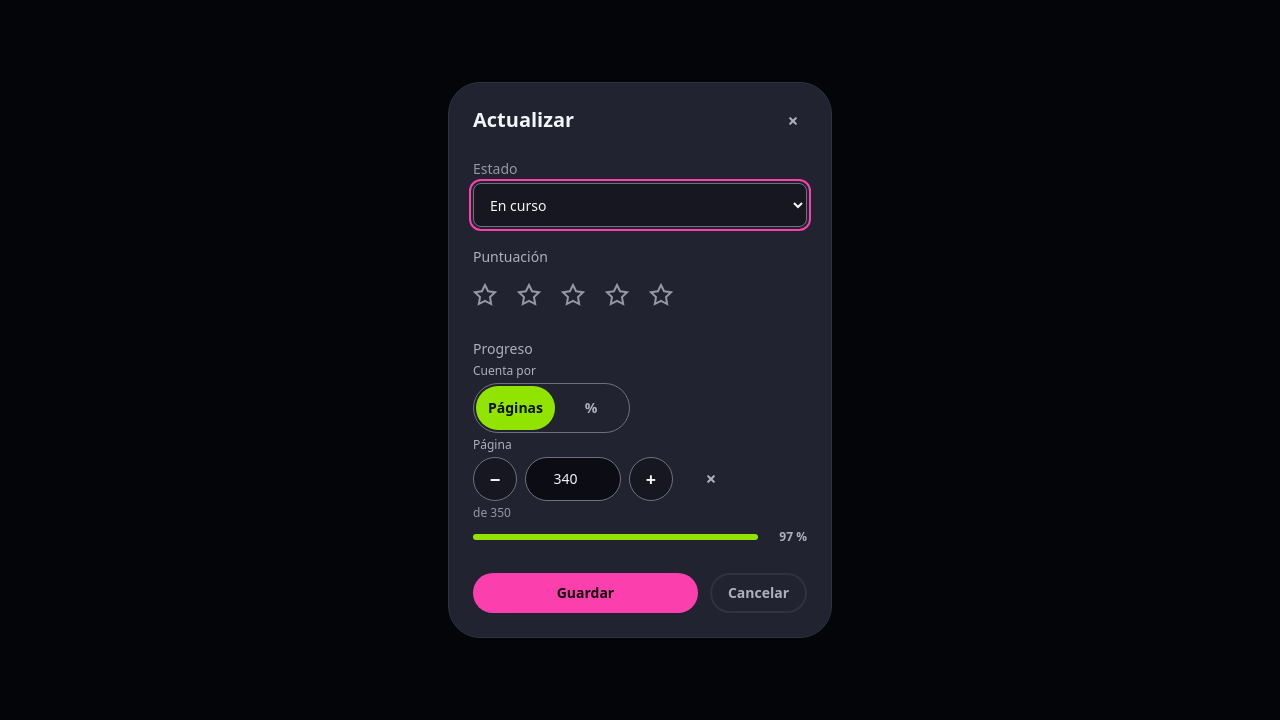
Test: LibraryStatusModal + progreso › al llegar a la última página propone «Completado» y lo aplica al estado
The image size is (1280, 720).
Expected: the text "Has llegado al final del libro." is not shown
Click the button named "Más páginas": click(651, 479) top-left (629, 457), bottom-right (673, 501)
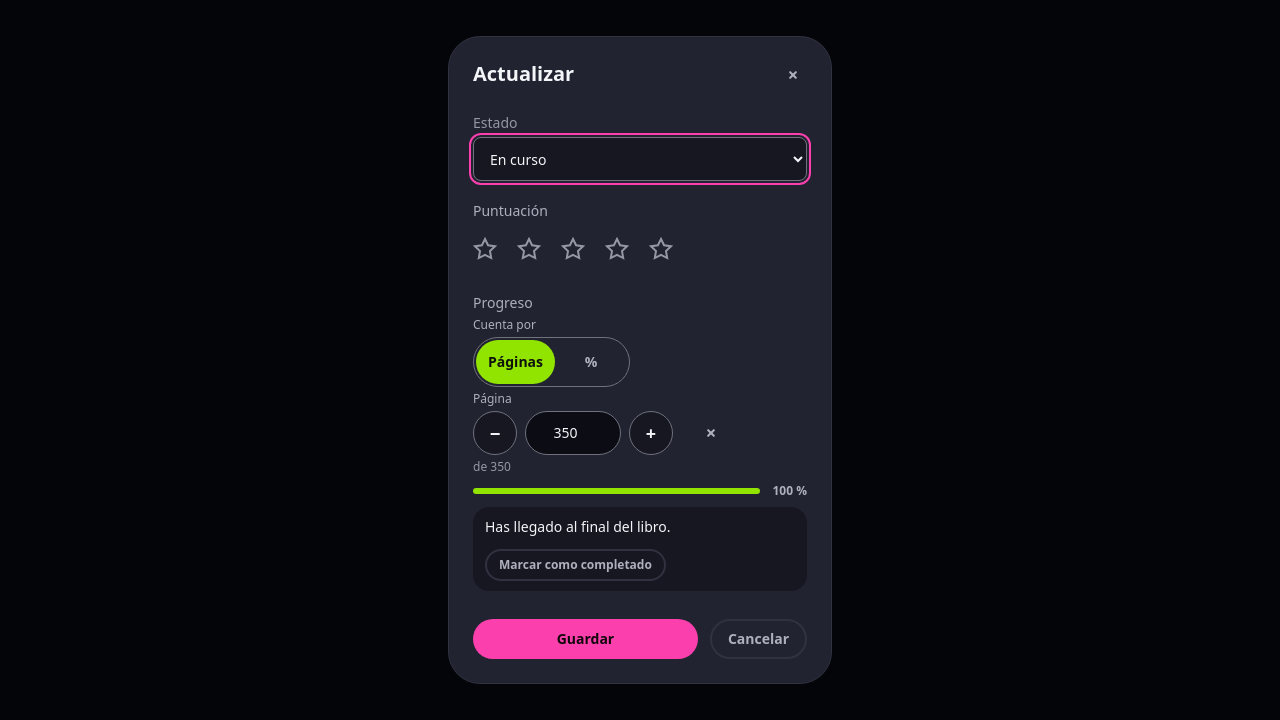
Result: the text "Has llegado al final del libro." is shown at top-left (485, 517), bottom-right (670, 537)
Click the button "Marcar como completado": click(575, 565) top-left (485, 549), bottom-right (666, 581)
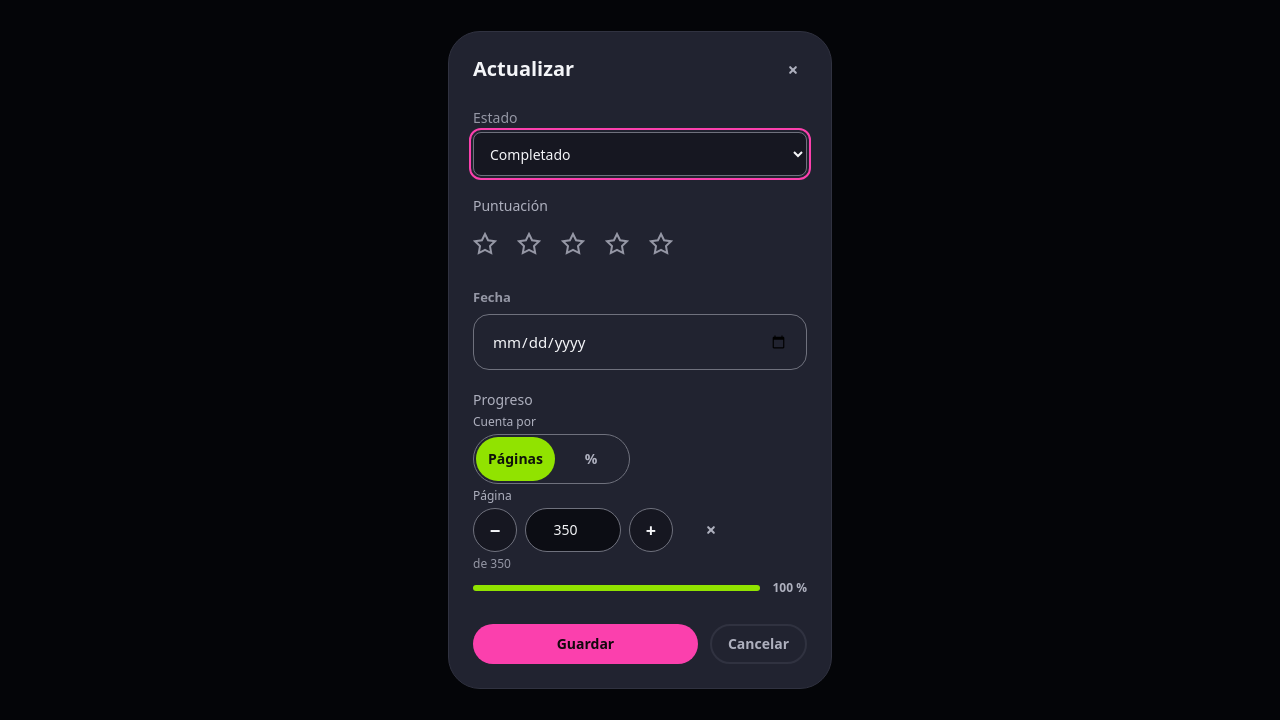
Result: the dropdown shows "Completado" at top-left (473, 132), bottom-right (807, 176)
